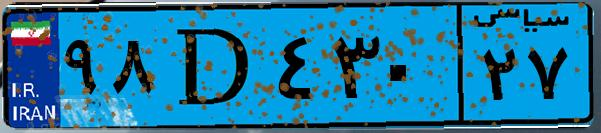0: (385, 28, 445, 110)
2: (475, 38, 525, 113)
3: (330, 28, 385, 110)
4: (270, 28, 330, 110)
7: (525, 38, 570, 115)
8: (110, 28, 158, 98)
9: (57, 26, 110, 100)
D: (158, 12, 270, 120)
